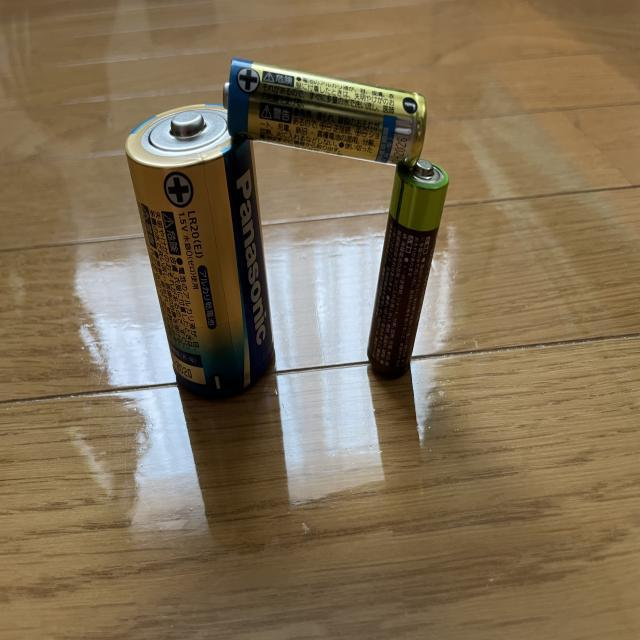hazardous waste: (124, 100, 276, 408), (220, 53, 430, 171), (360, 156, 450, 381)
